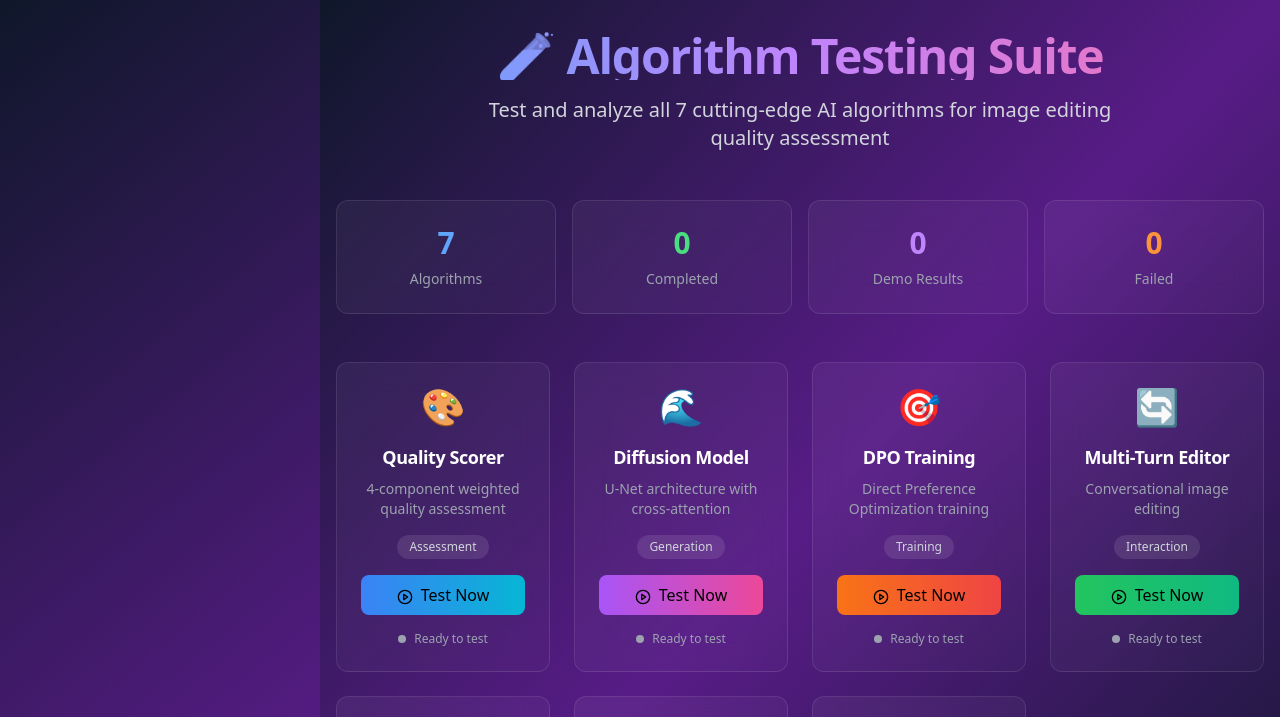
Scenario: labels offline Quality Scorer fallback as demo data
The image size is (1280, 717).
Click the button "Test Now" below "4-component weighted quality assessment" at (443, 595), box [361,575,525,615]
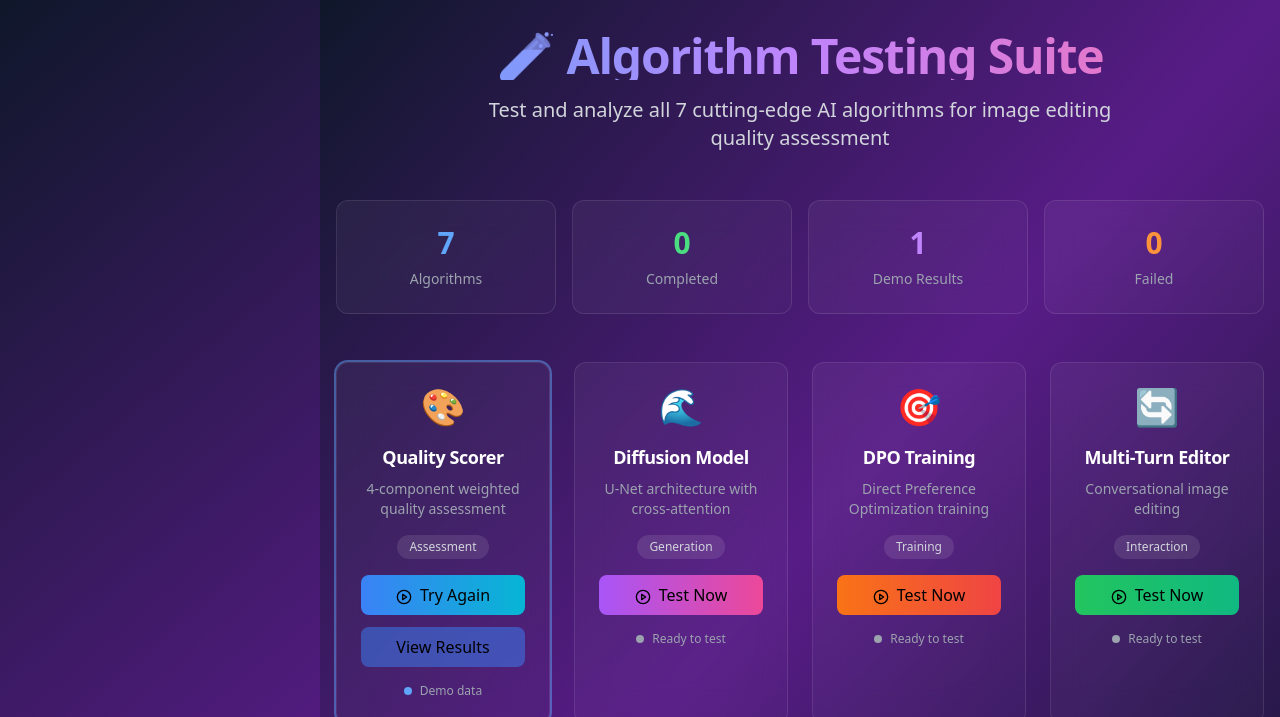
Expected: the 1st text "0" is shown, [673,222,691,263]
Now the text "Demo data" is shown, box [420,683,482,699]
Now the text "1" is shown, box [909,222,927,263]
Click the button "View Results" at (443, 647), box [361,627,525,667]
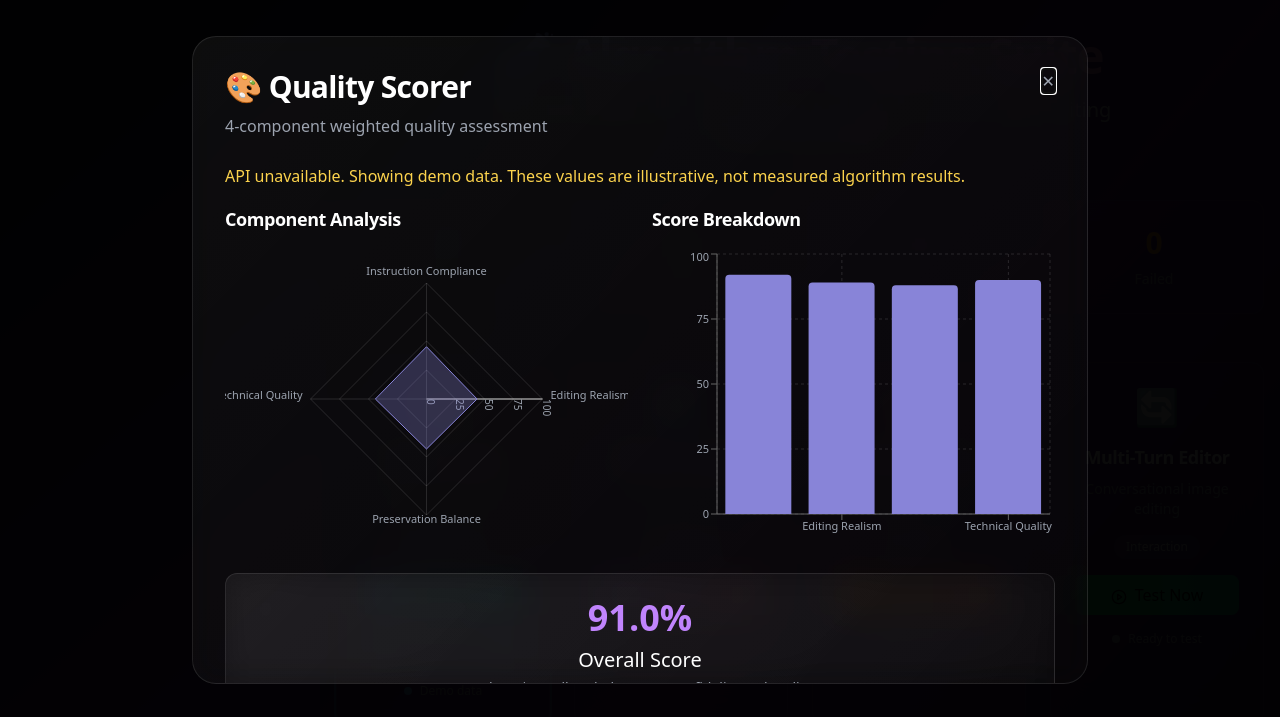
Now the message shows "API unavailable. Showing demo data.", box [225,165,503,187]
